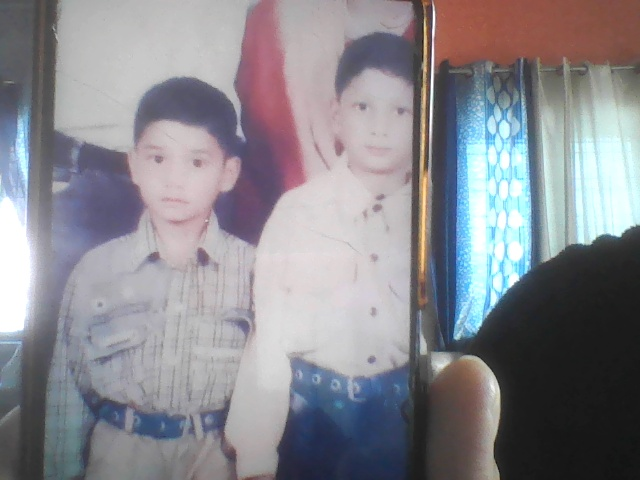fake: (306, 15, 438, 202), (131, 86, 239, 239)
